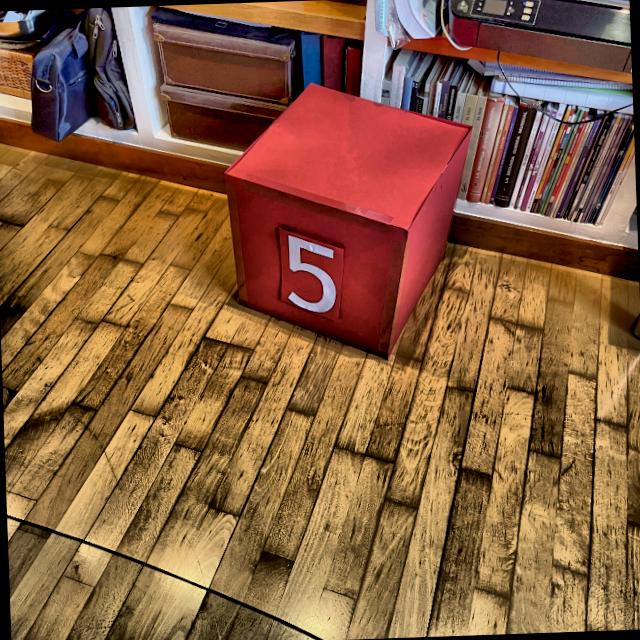five: (283, 230, 340, 316)
red box: (222, 79, 478, 365)
